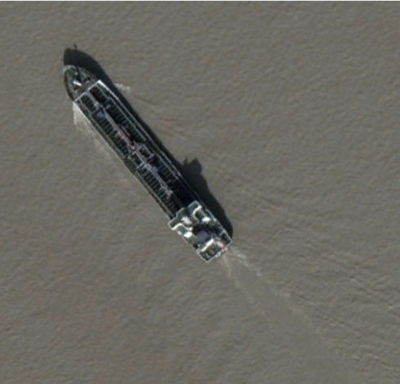boat: (60, 58, 236, 264)
